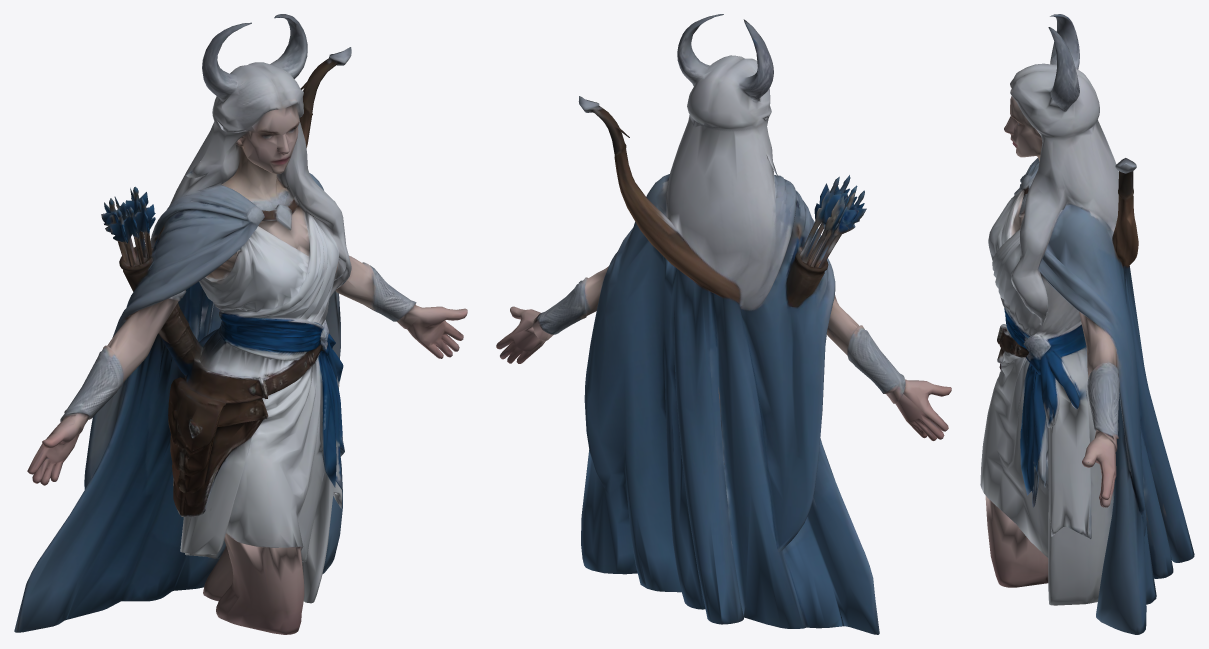
The model's file is elf_h2.glb.
The picture shows the model from 3 angles, left to right: view 1: azimuth 30°, elevation 25°; view 2: azimuth 150°, elevation 25°; view 3: azimuth 270°, elevation 25°; orthographic projection. The views are drawn at different scales.
Visible parts, largest first — view 1: node_0; view 2: node_0; view 3: node_0.
Part boxes in pixels (x1,y1,x2,y2): node_0: (14,14,467,634); node_0: (496,14,951,634); node_0: (980,14,1194,634).
Bounding box in the file's own units: 0.7971 × 0.9746 × 0.3377.
Materials: 1 (1 with a texture image).
